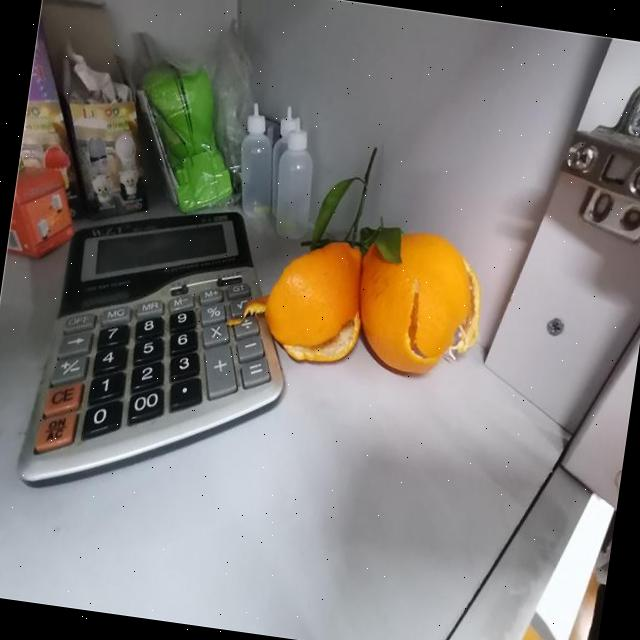orange-peel: (346, 222, 491, 382)
